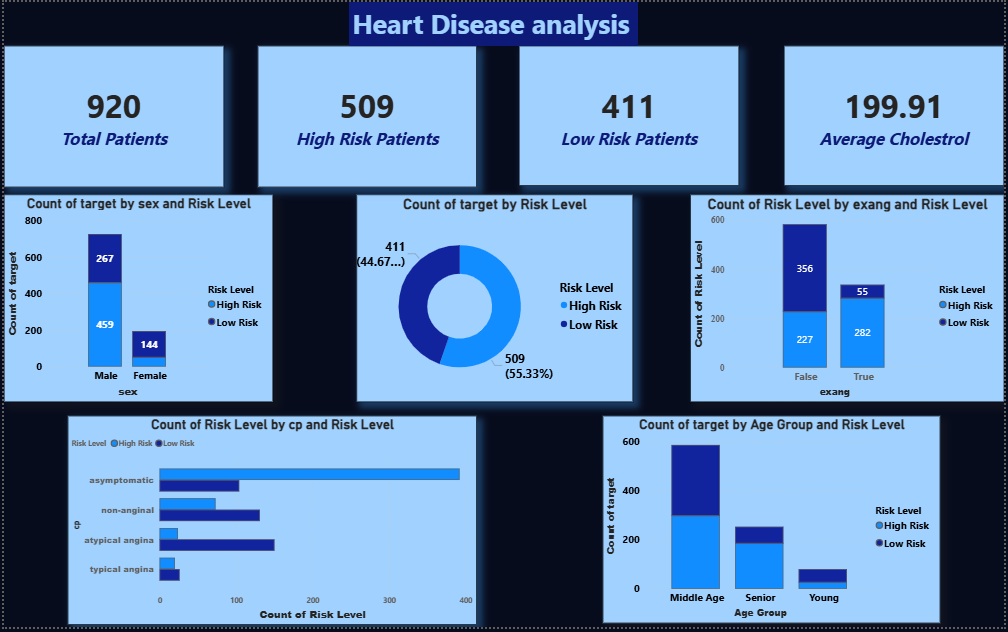

The page's visual inventory and layout, read from the dashboard file:
{"tool":"powerbi","page":{"name":"Dashboard1","canvas":[1600,1000],"ordinal":5},"visuals":[{"type":"donutChart","fields":{"Category":["heart_disease_uci.Risk Level"],"Y":["CountNonNull(heart_disease_uci.target)"]},"box":[564,308,442,332],"z":0},{"type":"columnChart","fields":{"Category":["heart_disease_uci.sex"],"Y":["CountNonNull(heart_disease_uci.target)"],"Series":["heart_disease_uci.Risk Level"]},"box":[0,308,430,332],"z":1000},{"type":"columnChart","fields":{"Category":["heart_disease_uci.Age Group"],"Series":["heart_disease_uci.Risk Level"],"Y":["CountNonNull(heart_disease_uci.target)"]},"box":[958,662,540,332],"z":2000},{"type":"clusteredBarChart","fields":{"Category":["heart_disease_uci.cp"],"Y":["CountNonNull(heart_disease_uci.Risk Level)"],"Series":["heart_disease_uci.Risk Level"]},"box":[102,662,654,334],"z":3000},{"type":"columnChart","fields":{"Category":["heart_disease_uci.exang"],"Series":["heart_disease_uci.Risk Level"],"Y":["CountNonNull(heart_disease_uci.Risk Level)"]},"box":[1098,308,502,332],"z":4000},{"type":"card","fields":{"Values":["CountNonNull(heart_disease_uci.target)"]},"box":[0,70,352,226],"z":5000},{"type":"card","fields":{"Values":["heart_disease_uci.High Risk Count"]},"box":[406,70,350,226],"z":6000},{"type":"card","fields":{"Values":["heart_disease_uci.Low Risk Count"]},"box":[824,70,352,224],"z":7000},{"type":"card","fields":{"Values":["Avg(heart_disease_uci.chol)"]},"box":[1248,70,352,224],"z":8000},{"type":"textbox","box":[552,0,462,70],"z":9000}]}

Visuals, with their boxes in screenshot pixels (x1, y1, x2, y2), scaled from the page's 1600x1000 canvas onto the 1008x632 screenshot:
donutChart - heart_disease_uci.Risk Level x CountNonNull(heart_disease_uci.target): <bbox>355, 195, 634, 404</bbox>
columnChart - heart_disease_uci.sex x CountNonNull(heart_disease_uci.target): <bbox>0, 195, 271, 404</bbox>
columnChart - heart_disease_uci.Age Group x heart_disease_uci.Risk Level: <bbox>604, 418, 944, 628</bbox>
clusteredBarChart - heart_disease_uci.cp x CountNonNull(heart_disease_uci.Risk Level): <bbox>64, 418, 476, 629</bbox>
columnChart - heart_disease_uci.exang x heart_disease_uci.Risk Level: <bbox>692, 195, 1007, 404</bbox>
card - CountNonNull(heart_disease_uci.target): <bbox>0, 44, 222, 187</bbox>
card - heart_disease_uci.High Risk Count: <bbox>256, 44, 476, 187</bbox>
card - heart_disease_uci.Low Risk Count: <bbox>519, 44, 741, 186</bbox>
card - Avg(heart_disease_uci.chol): <bbox>786, 44, 1007, 186</bbox>
textbox: <bbox>348, 0, 639, 44</bbox>
